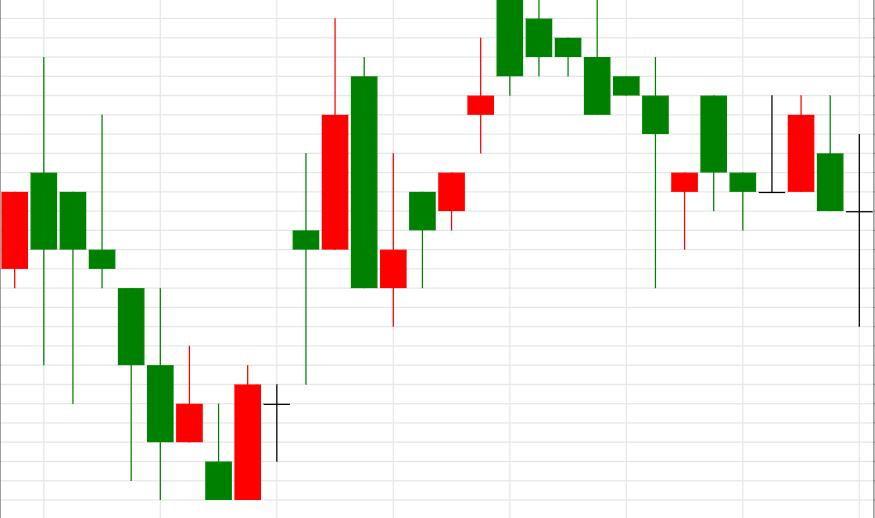bullish_engulfing_rise: (31, 58, 262, 500)
